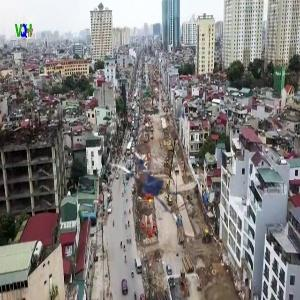drone: (102, 148, 189, 235)
